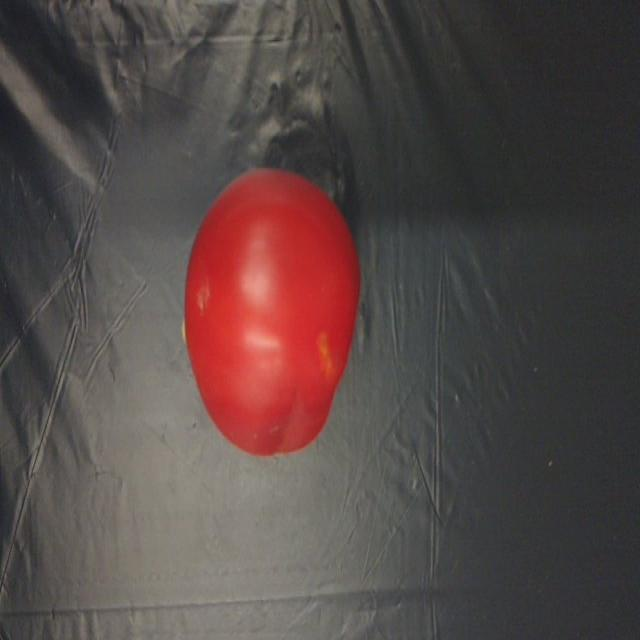kirmizi: (167, 150, 357, 465)
